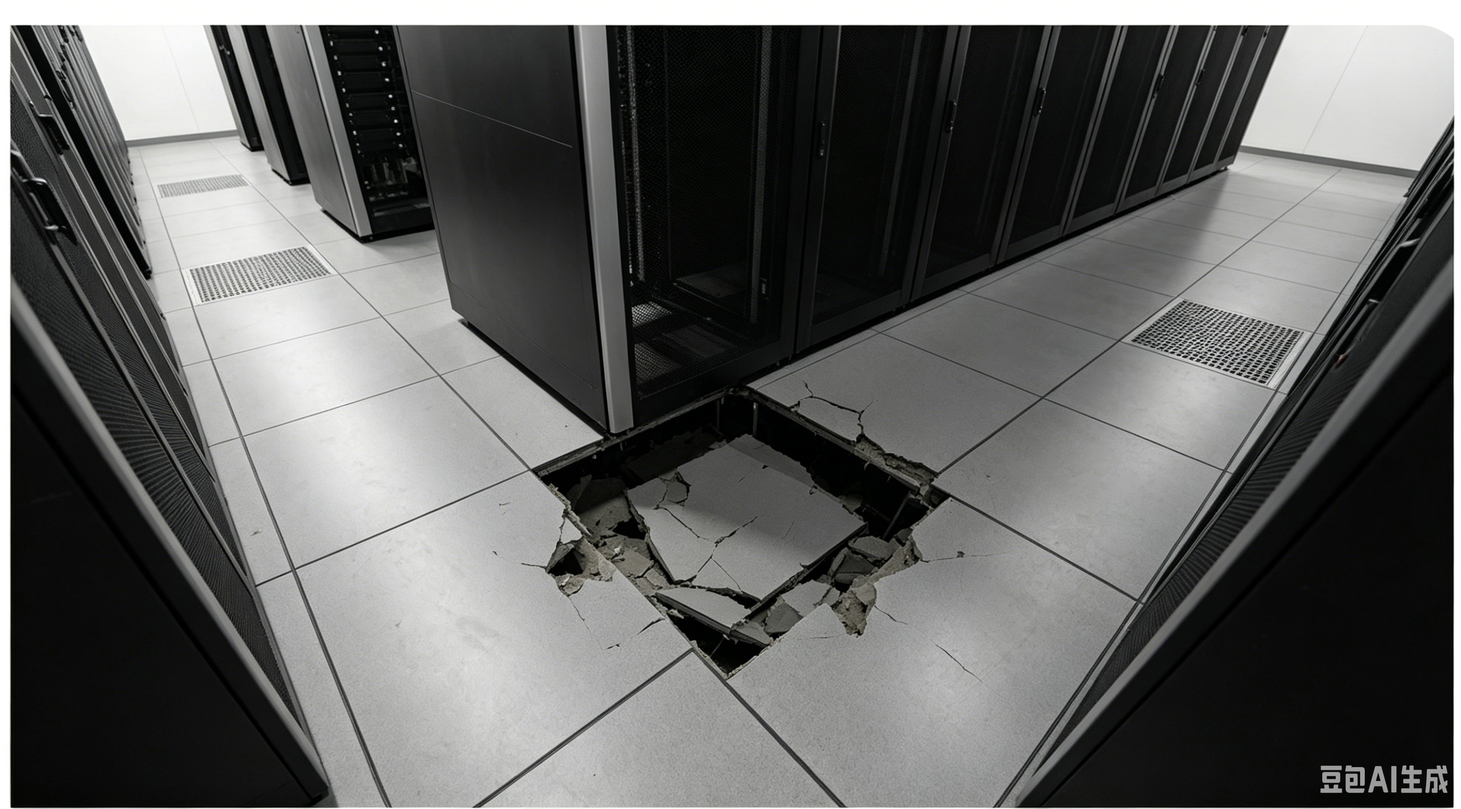floor_defect: (499, 356, 956, 679)
